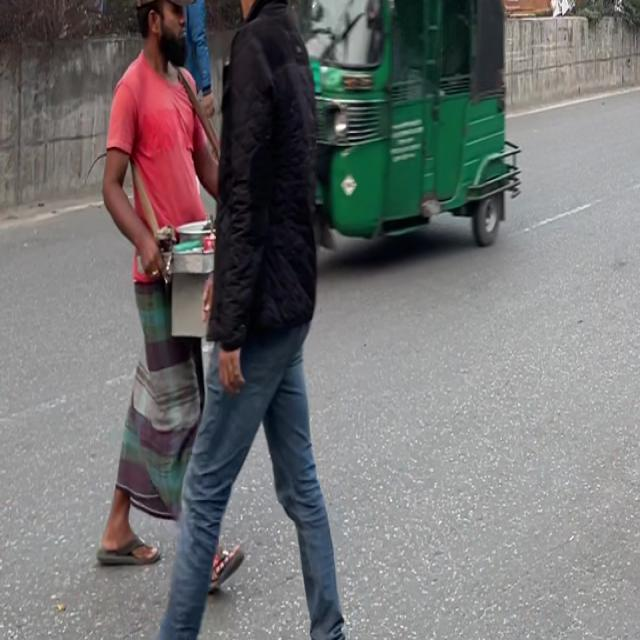rickshaw: (276, 0, 538, 259)
